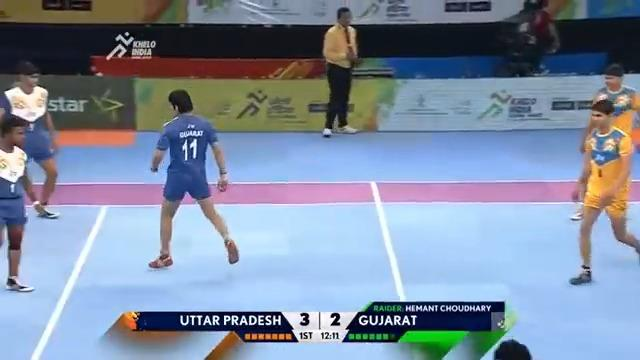Player: (568, 96, 639, 285), (2, 59, 61, 219), (0, 112, 39, 292)
Raider: (147, 88, 239, 269)
referee: (320, 6, 360, 137)
